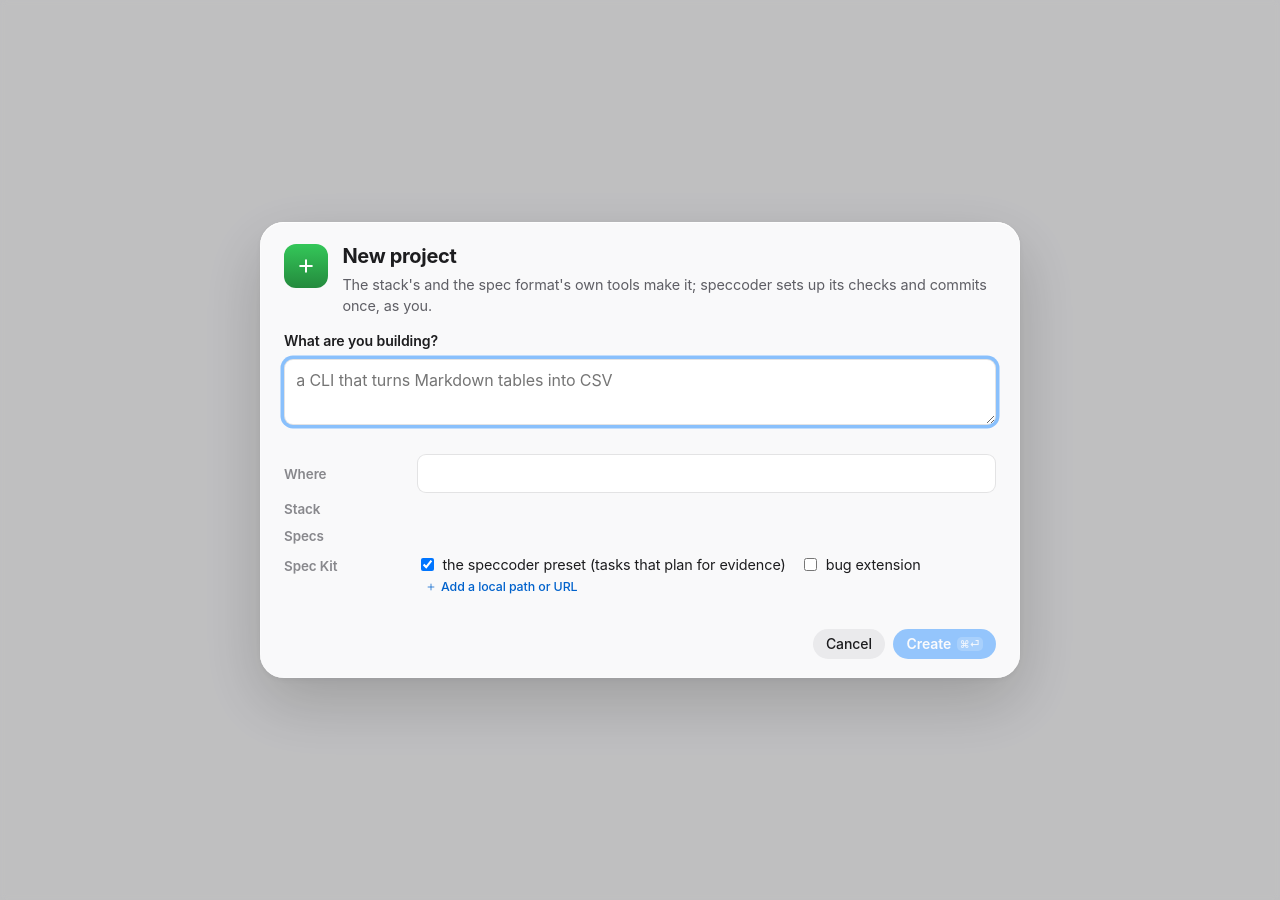
it: NewProject › never creates a plan the fields no longer ask for
In the text box labelled "What are you building?": x=640, y=392 [284,358,996,424], type "a CLI"
Wait 350 ms
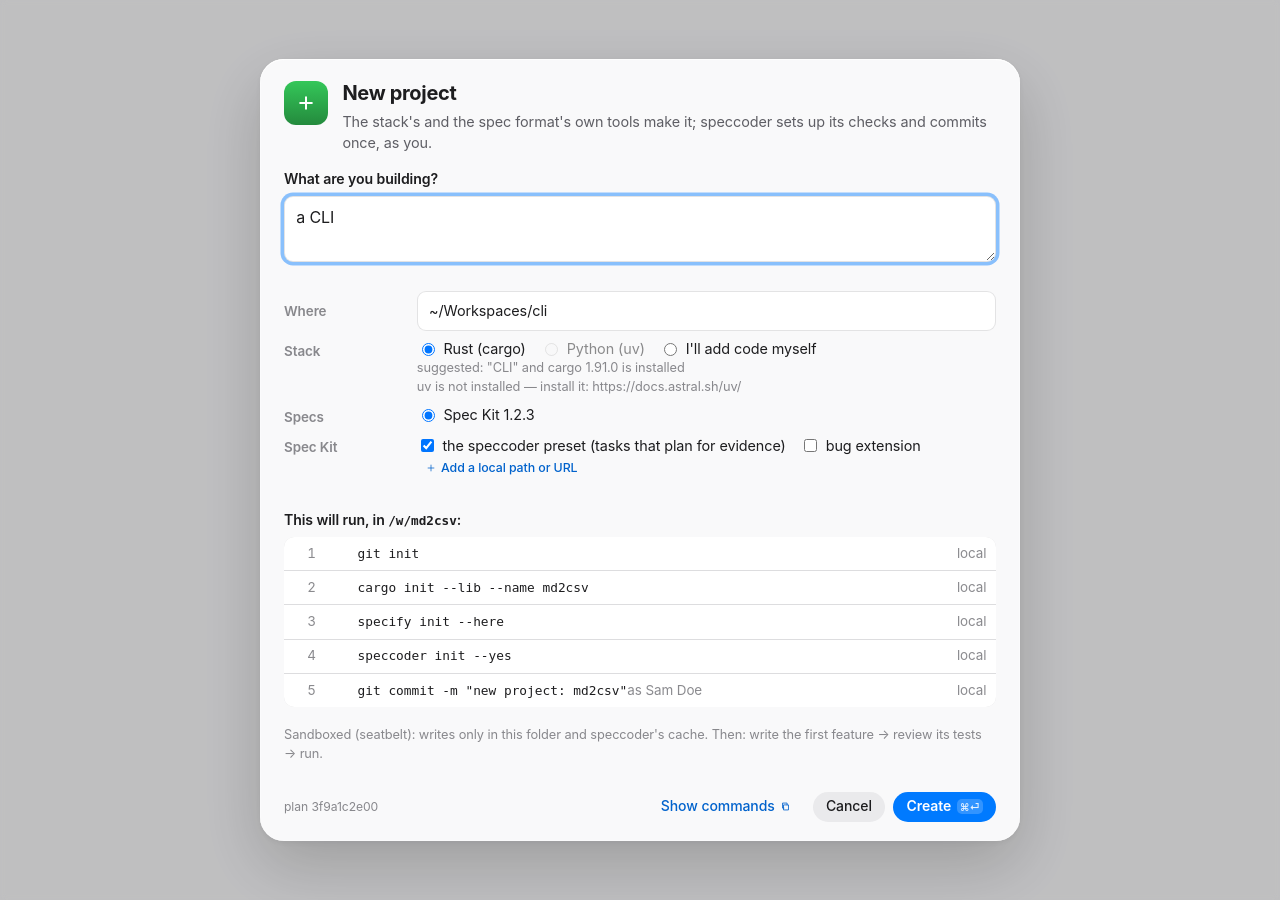
Expected: the text "This will run, in /w/md2csv" is shown, [284,511,461,528]
Replace the text in the text box labelled "What are you building?" with "a CLI for something else": x=640, y=229 [284,196,996,262]
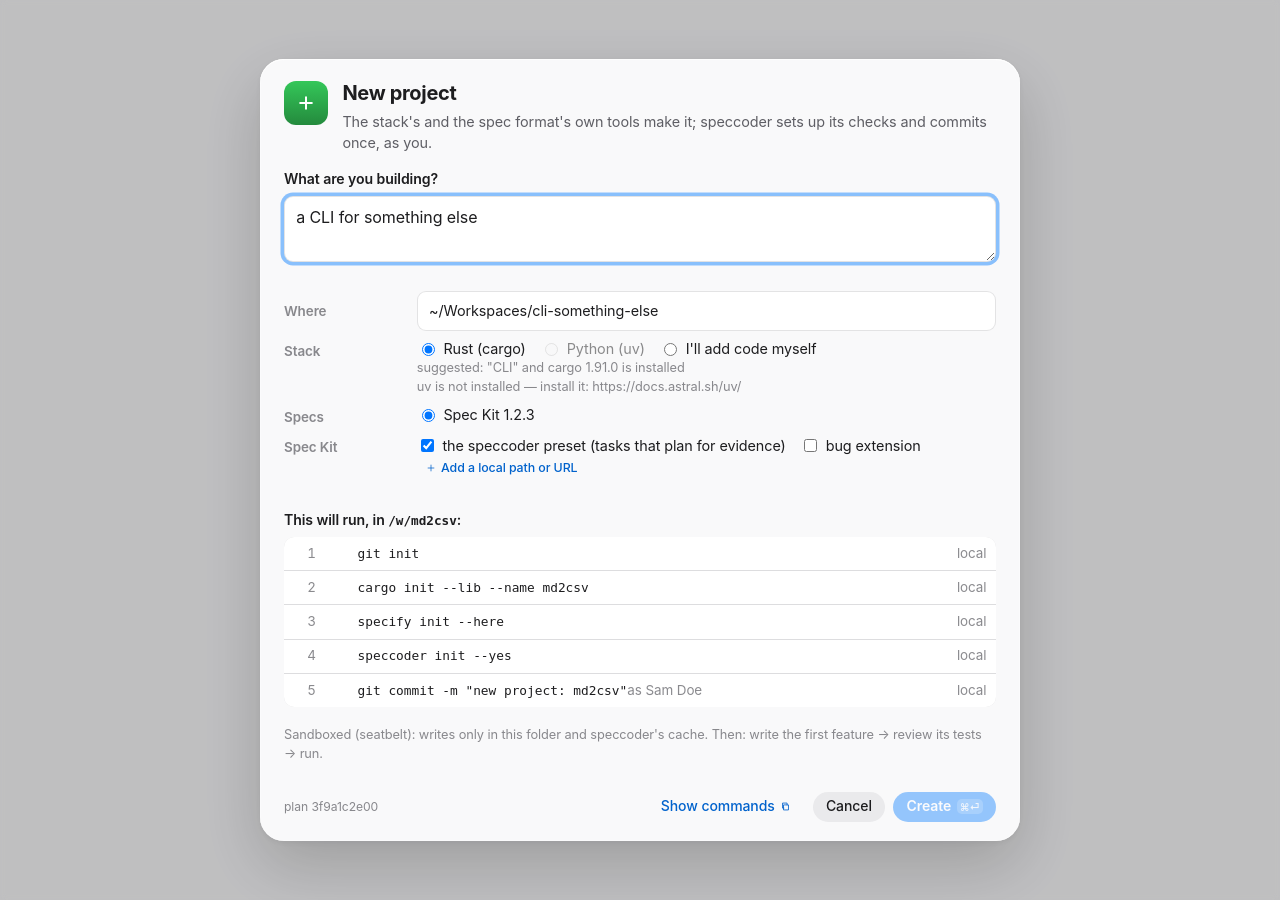
Expected: the button "Create ⌘⏎" is disabled
Click the button "Create ⌘⏎": x=945, y=807 [893,792,996,822]
Wait 350 ms
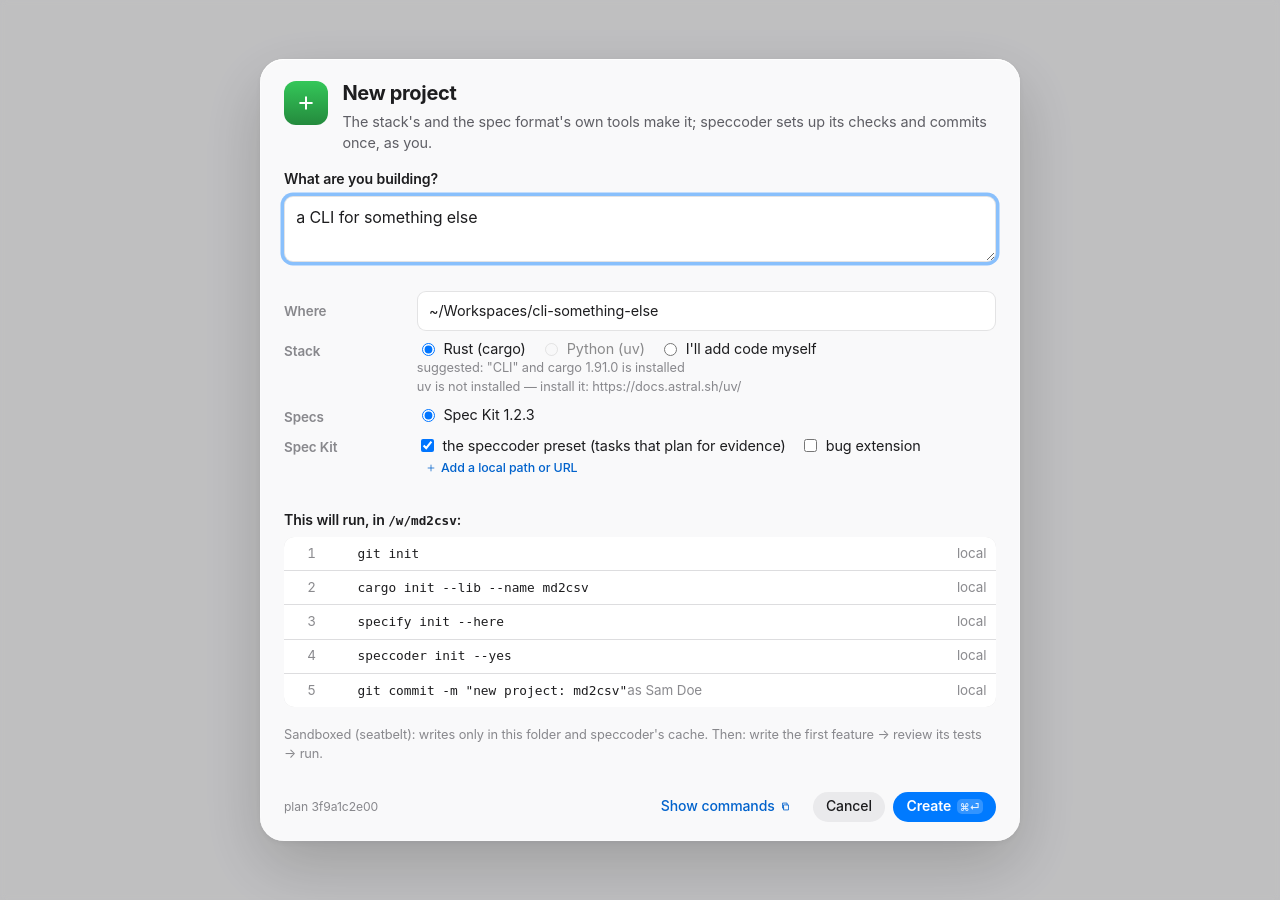
Expected: the button "Create ⌘⏎" is enabled, [893,792,996,822]
